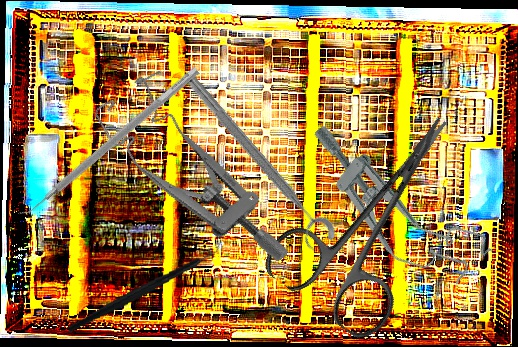Chopper: (58, 238, 231, 333)
Fixation Ring: (173, 71, 340, 257)
Iris Scissors: (257, 82, 502, 347)
Spatula Surgical: (14, 59, 201, 224)
Speculum: (88, 56, 293, 304), (285, 111, 497, 304)
